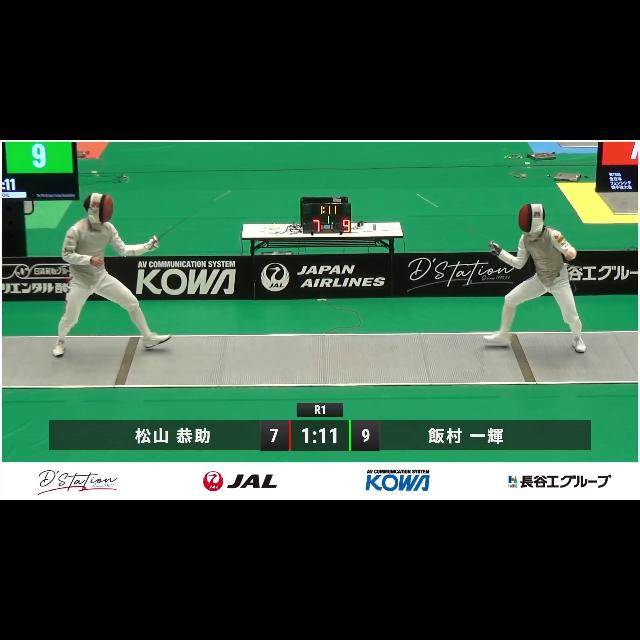blade: (412, 191, 502, 251), (150, 188, 232, 248)
